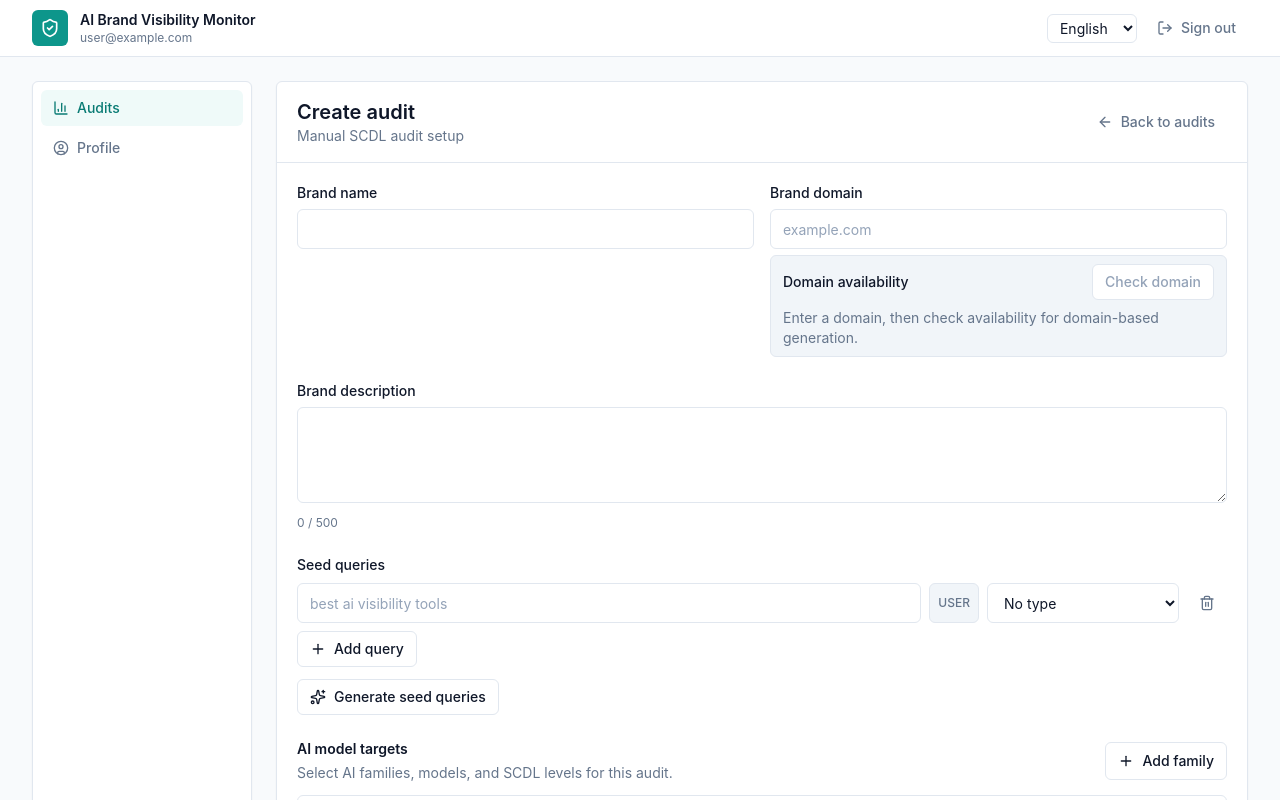
Scenario: create audit page › keeps generation disabled when no source is selected or available
Expected: the heading "Create audit" is shown, [297,100,415,124]
Click the button "Generate seed queries" at [398, 697], box [297,679,499,715]
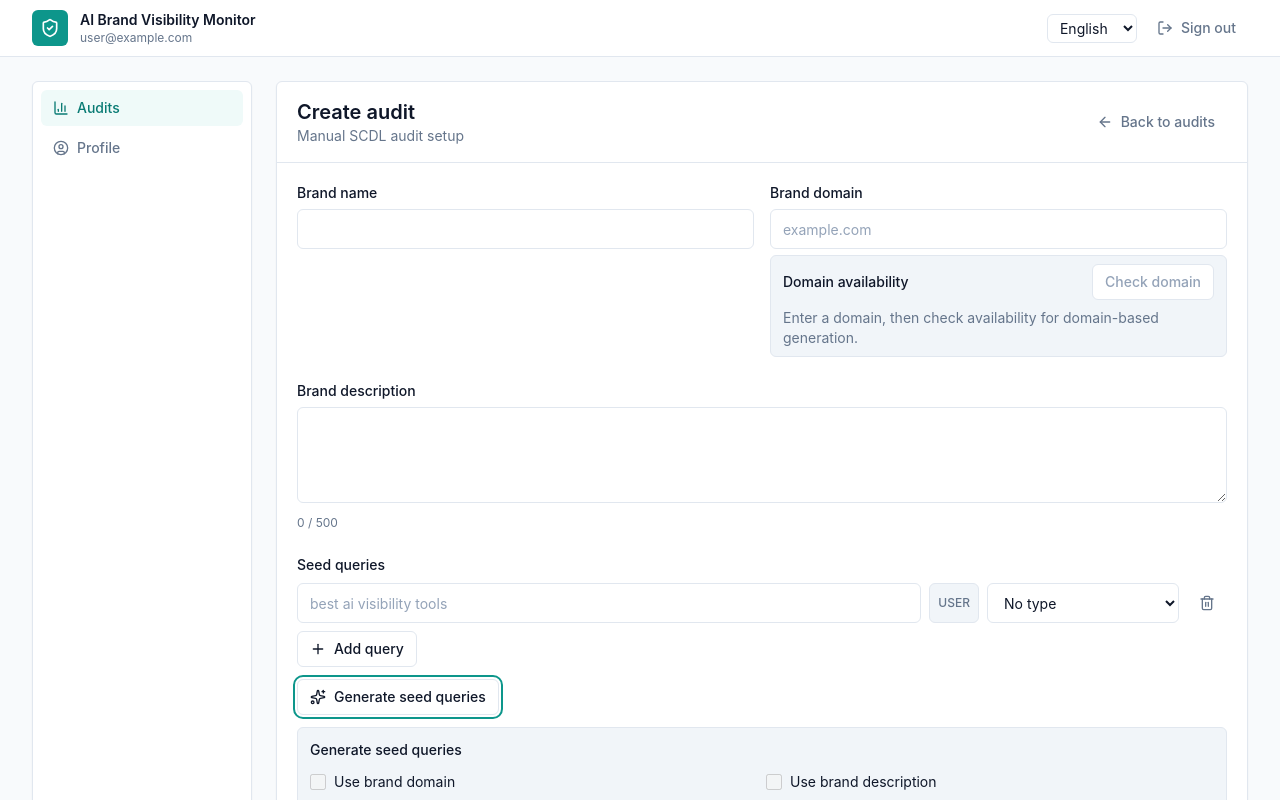
Result: the checkbox labelled "Use brand domain" is disabled at [310,774,326,790]
Result: the checkbox labelled "Use brand description" is disabled at [766,774,782,790]
